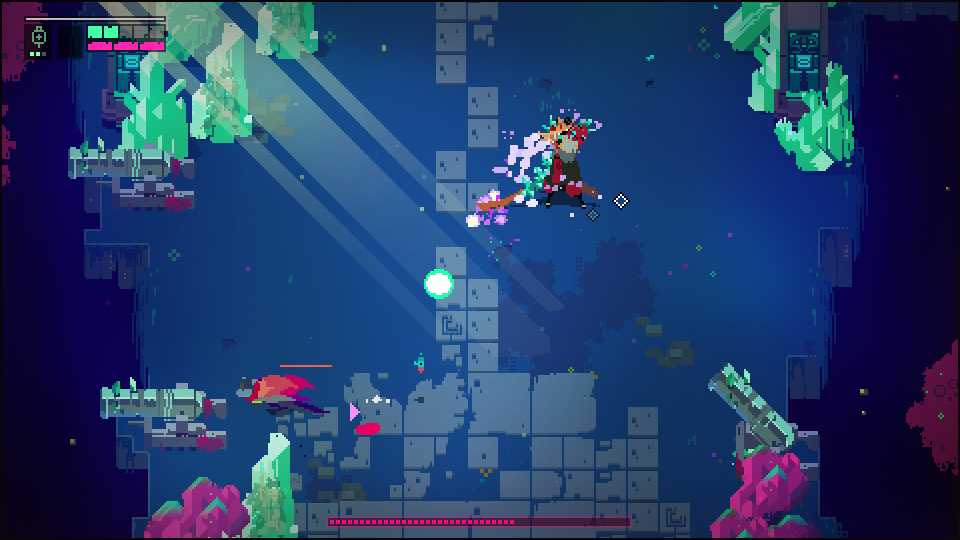hanged_man: (513, 112, 600, 210)
hanged_shot: (424, 268, 455, 299)
player: (235, 376, 315, 406)
